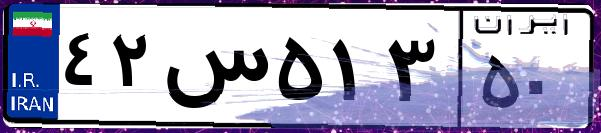0: (525, 38, 570, 115)
1: (330, 28, 385, 110)
2: (110, 28, 158, 98)
3: (385, 28, 445, 110)
4: (57, 26, 110, 100)
5: (270, 28, 330, 110), (475, 38, 525, 113)
س: (158, 20, 270, 120)
